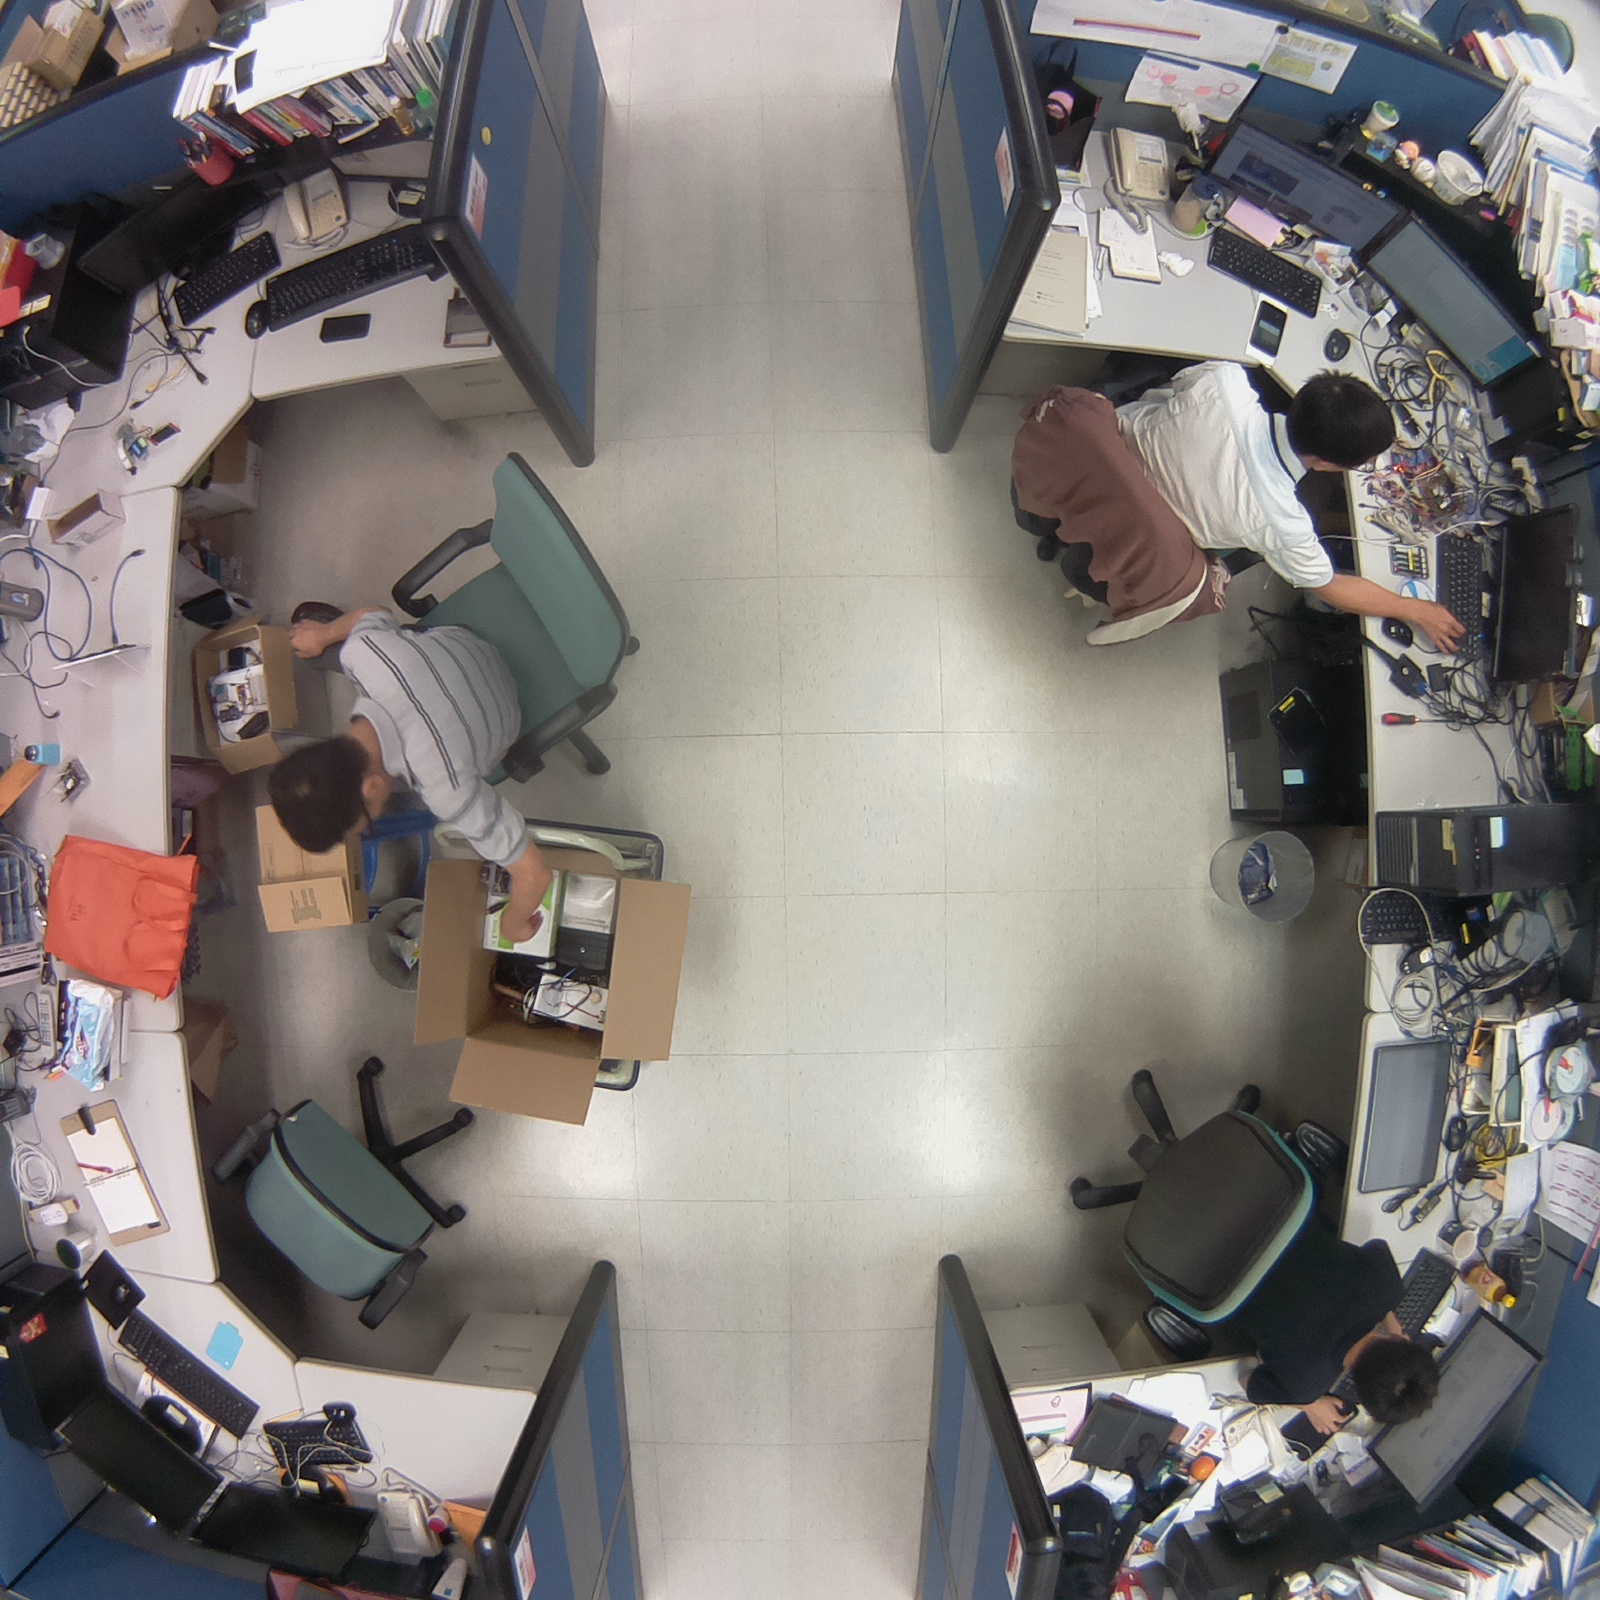chair: (196, 1037, 494, 1355)
head: (264, 731, 382, 857), (1282, 369, 1407, 480), (1350, 1329, 1448, 1431)
sitting: (255, 417, 683, 945), (991, 304, 1465, 668), (1053, 1050, 1447, 1442)
